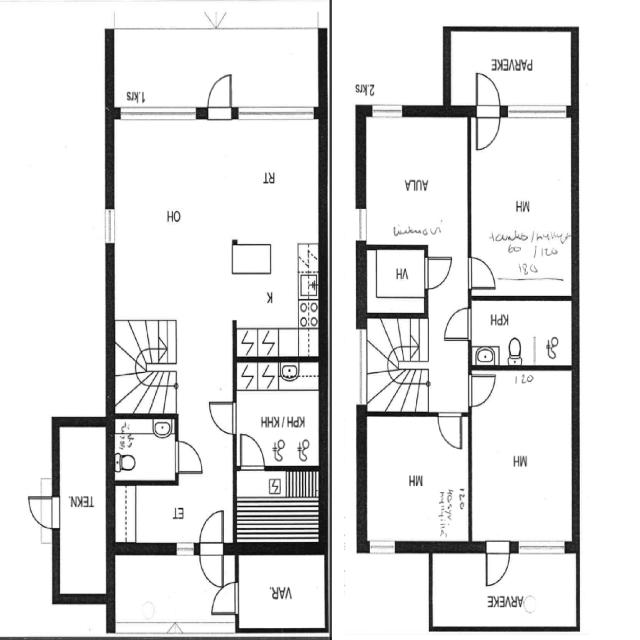door: (364, 408, 472, 545), (446, 375, 496, 443), (469, 68, 503, 156), (196, 504, 228, 588), (204, 394, 244, 440), (418, 248, 454, 296), (25, 488, 64, 531), (483, 539, 514, 593), (434, 406, 468, 453), (464, 250, 500, 294), (206, 68, 236, 120), (234, 430, 268, 475), (465, 368, 500, 411), (172, 436, 207, 478), (442, 304, 473, 345), (207, 581, 241, 617)
window: (114, 100, 202, 124), (231, 100, 318, 124), (501, 99, 570, 123), (514, 534, 571, 561), (352, 322, 369, 410), (365, 98, 411, 123), (101, 203, 118, 251), (365, 537, 401, 558), (353, 202, 369, 247), (172, 536, 198, 559)
zone: (114, 108, 321, 390), (468, 113, 577, 297), (468, 367, 578, 545), (360, 109, 472, 249), (360, 413, 471, 547), (430, 542, 576, 632), (233, 358, 322, 469), (57, 424, 108, 602), (468, 297, 576, 368), (235, 550, 328, 632), (231, 468, 326, 544), (358, 247, 429, 319), (111, 415, 178, 485)
